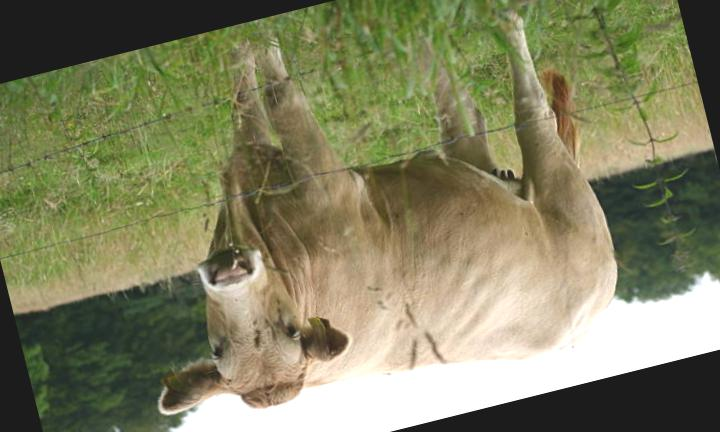Charolais: (160, 14, 617, 414)
